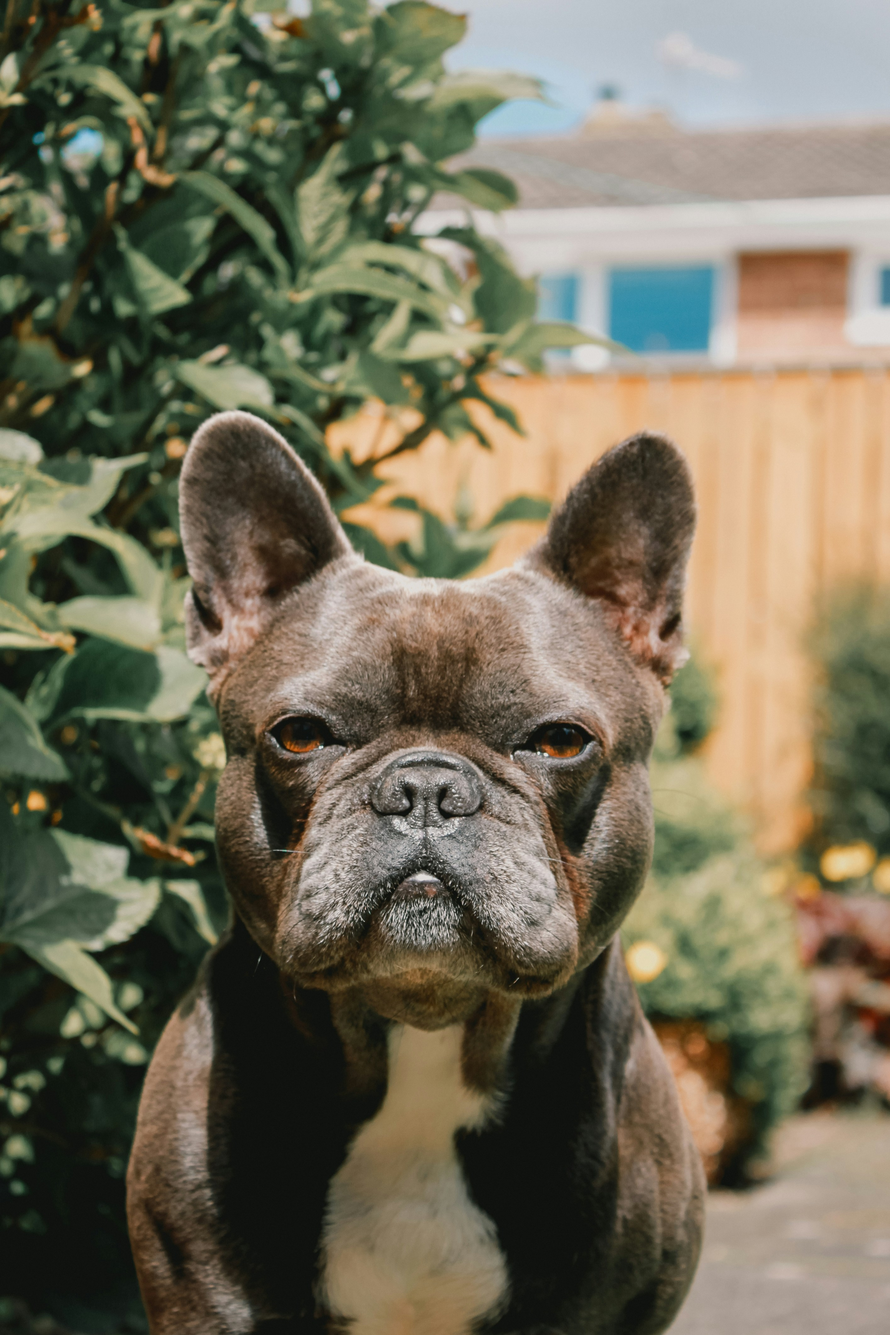dog-nose-detector: (369, 752, 491, 818)
